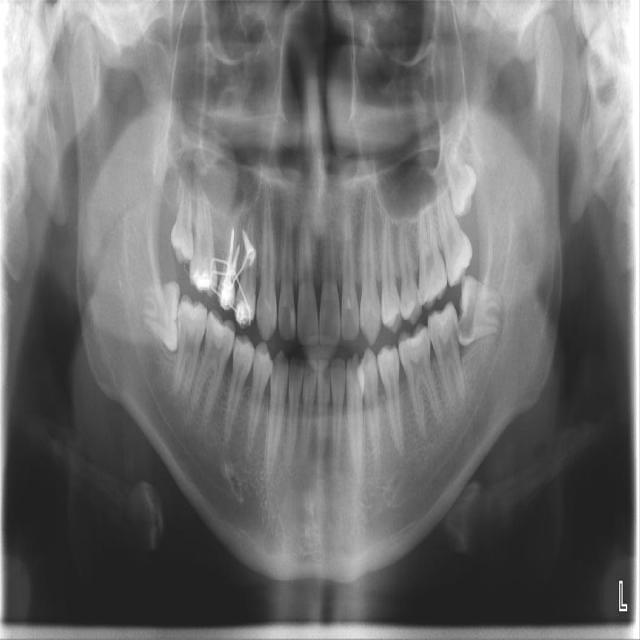Caries: (459, 306, 475, 339), (451, 320, 459, 342)
Root Canal Treatment: (232, 240, 238, 270), (229, 228, 233, 269)
impacted tooth: (135, 282, 179, 353), (442, 133, 477, 215), (460, 279, 504, 343), (172, 181, 193, 257)
